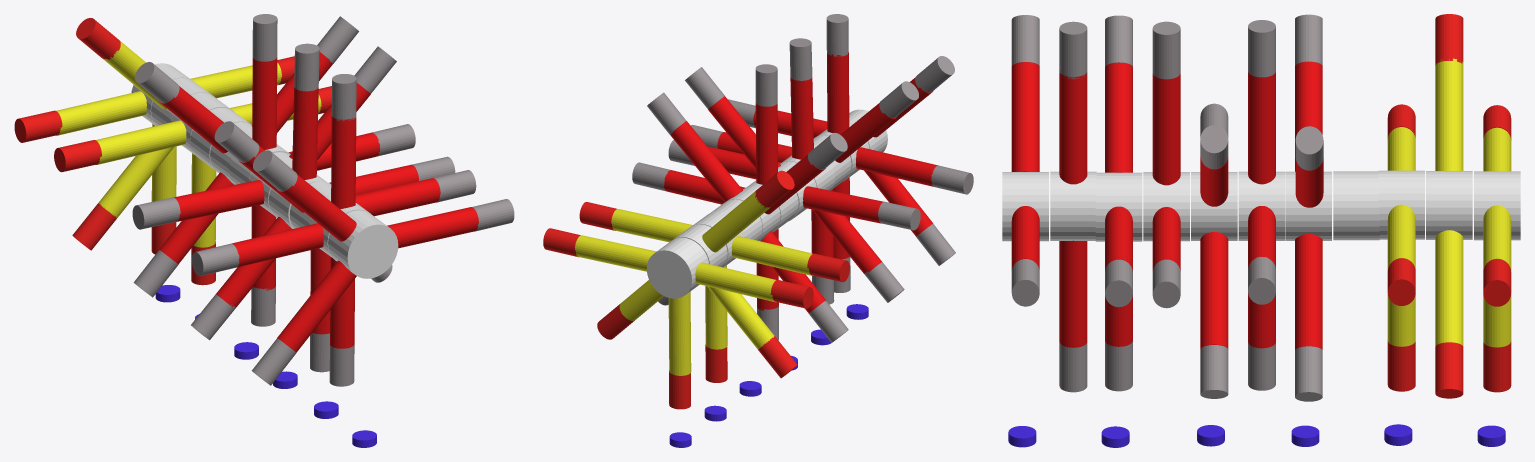
Rendered from fishbone3.glb.
The picture shows the model from 3 angles, left to right: view 1: azimuth 30°, elevation 25°; view 2: azimuth 150°, elevation 25°; view 3: azimuth 270°, elevation 25°; orthographic projection. The views are drawn at different scales.
Parts seen in each view (by area): view 1: 円柱.009, 円柱.069, 円柱.047; view 2: 円柱.009, 円柱.069, 円柱.047; view 3: 円柱.009, 円柱.069, 円柱.047, 円柱.014, 円柱.059, 円柱.074, 円柱.089, 円柱.029, 円柱.044.
Boxes of the visible parts, bbox=[...] form: 円柱.009: bbox=[132, 14, 514, 386]; 円柱.069: bbox=[14, 18, 331, 285]; 円柱.047: bbox=[190, 107, 251, 169]; 円柱.009: bbox=[632, 14, 973, 342]; 円柱.069: bbox=[543, 170, 849, 409]; 円柱.047: bbox=[711, 199, 762, 240]; 円柱.009: bbox=[1002, 14, 1331, 401]; 円柱.069: bbox=[1378, 14, 1520, 398]; 円柱.047: bbox=[1333, 171, 1379, 240]; 円柱.014: bbox=[1008, 426, 1036, 447]; 円柱.059: bbox=[1291, 425, 1319, 446]; 円柱.074: bbox=[1384, 424, 1412, 445]; 円柱.089: bbox=[1477, 425, 1505, 446]; 円柱.029: bbox=[1101, 426, 1129, 447]; 円柱.044: bbox=[1197, 425, 1224, 446].
Bounding box in the file's own units: 5.21 × 5.95 × 6.72.
